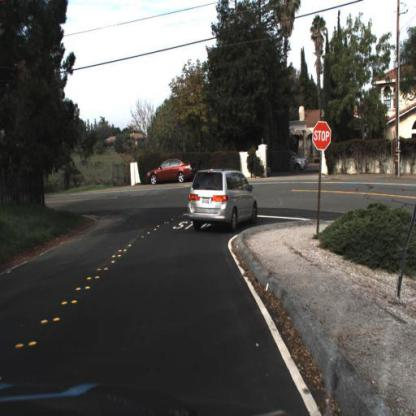car: (190, 170, 260, 234), (146, 160, 200, 183), (288, 149, 307, 170)
